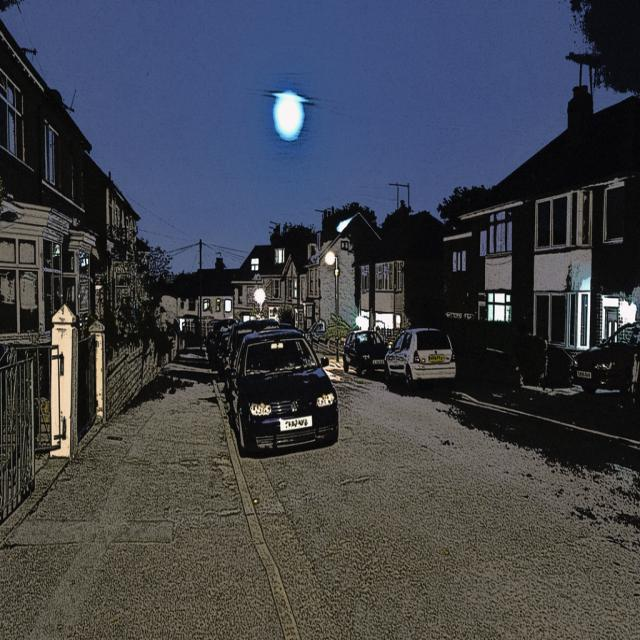car: (384, 324, 455, 383)
